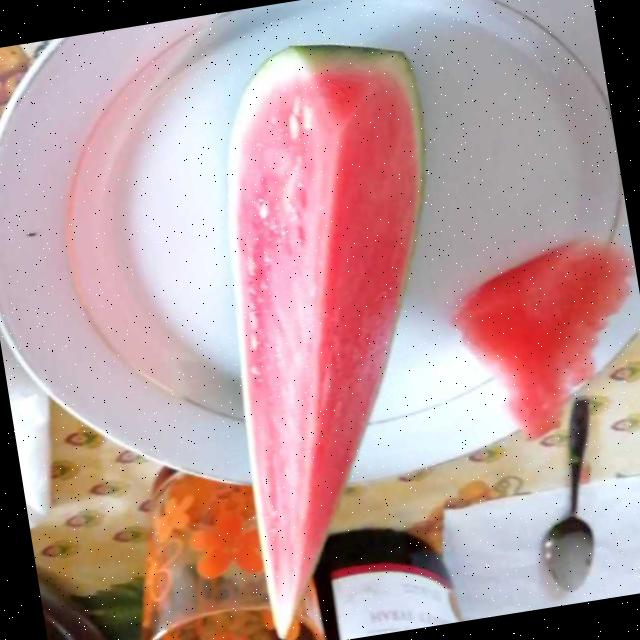watermelon-fresh: (211, 35, 630, 638)
